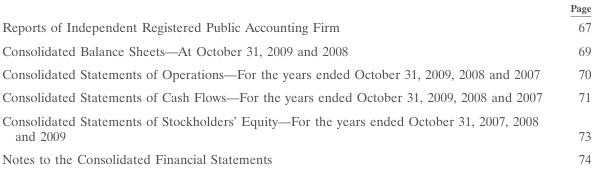table: (1, 1, 590, 166)
table column: (1, 1, 555, 166), (555, 1, 590, 166)
table column header: (1, 1, 590, 16)
table row: (1, 108, 590, 147), (1, 61, 590, 85), (1, 38, 590, 61), (1, 85, 590, 108), (1, 16, 590, 38), (1, 147, 590, 166), (1, 1, 590, 16)
